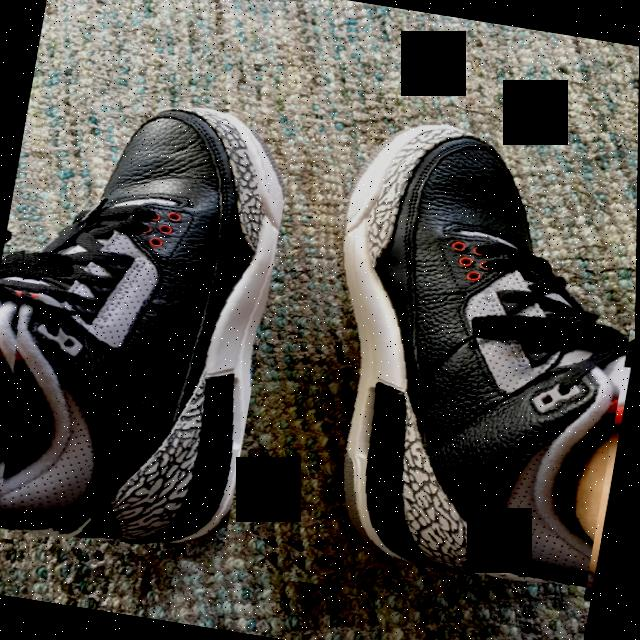shoe: (260, 90, 639, 627), (0, 80, 299, 573)
